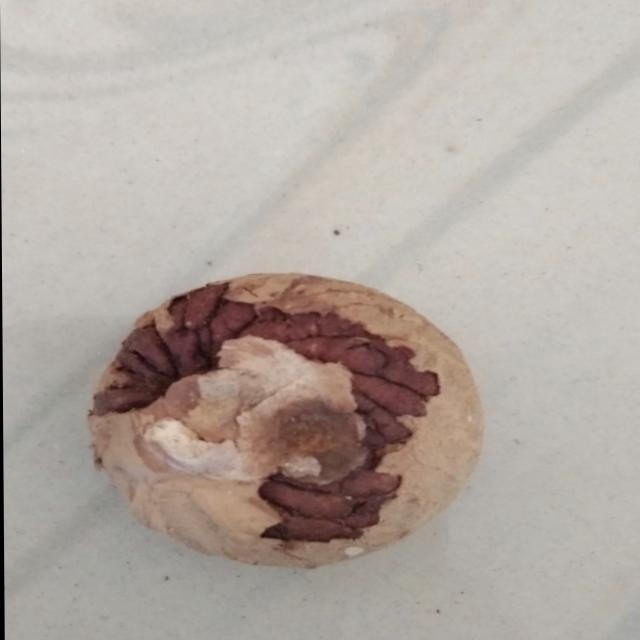karigot: (74, 262, 496, 594)
